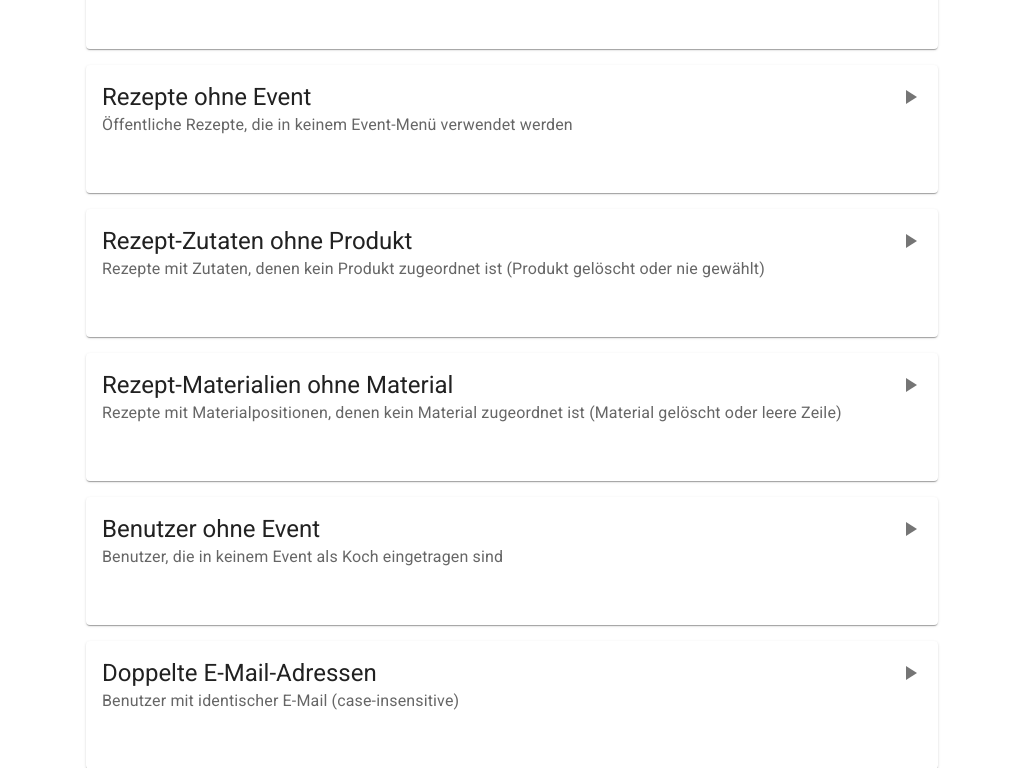
Test case: DataIntegrityPage — Rezepte ohne Produkt/Material › Materialien-Prüfung ruft die passende RPC auf und beschreibt leere Zeilen
This screenshot has width=1024, height=768.
(page scrolled)
Click the button named "Rezept-Materialien ohne Material ausführen" at [910, 385], box [890,365,930,405]
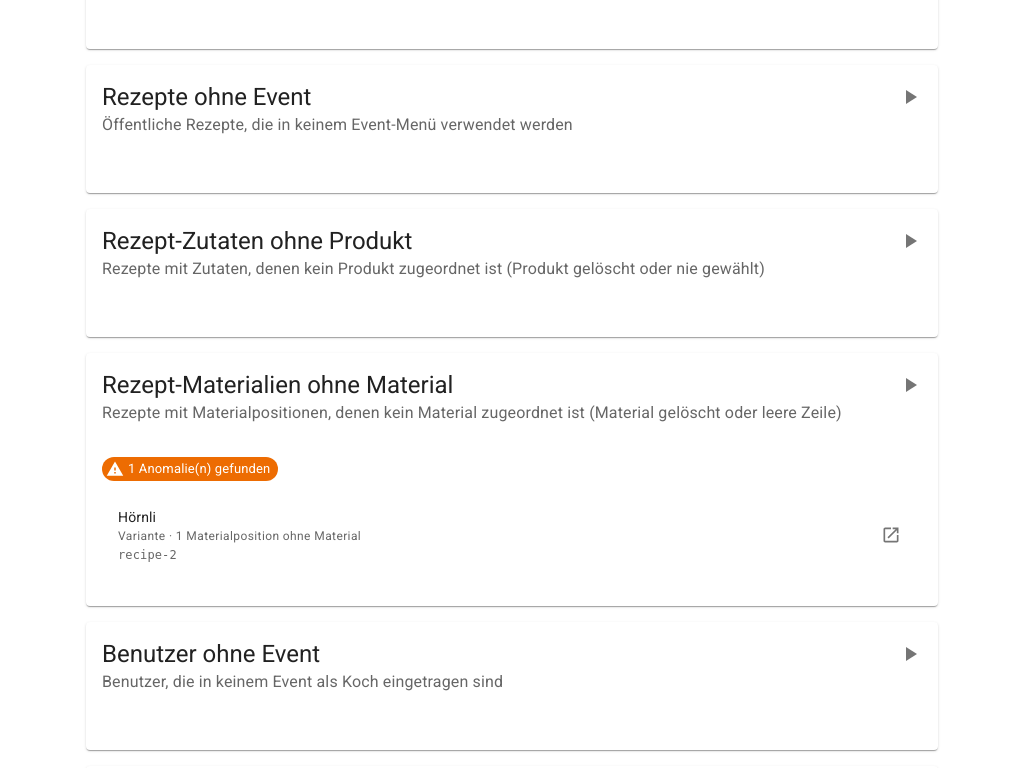
Check: the text "Variante · 1 Materialposition ohne Material" is shown, box [118,529,361,543]
